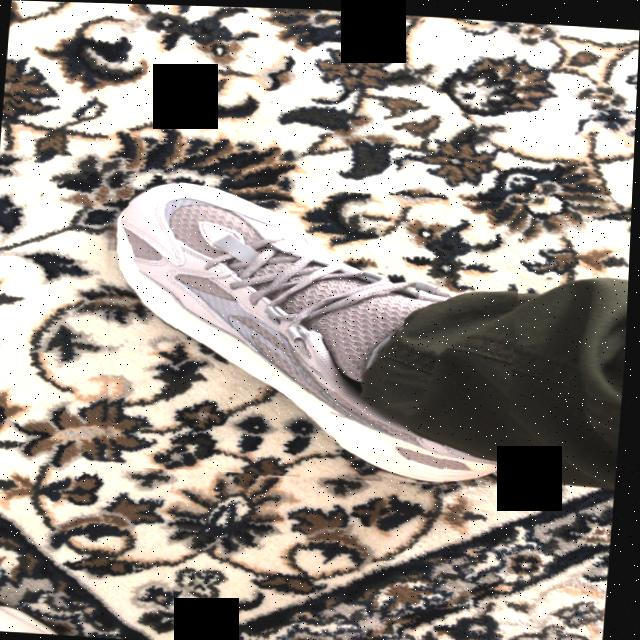shoe: (92, 176, 527, 488)
